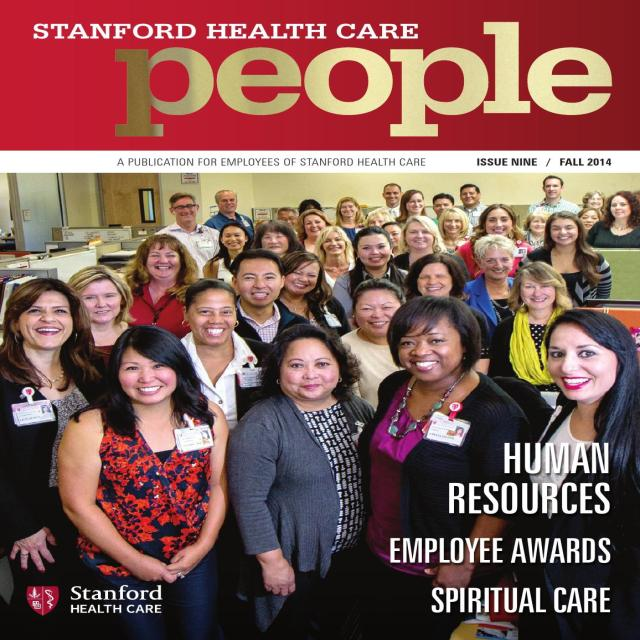body: (350, 292, 533, 640), (53, 322, 233, 640), (222, 324, 378, 640), (0, 277, 113, 640), (518, 307, 640, 638), (176, 278, 282, 436), (487, 258, 579, 392), (404, 252, 493, 378), (64, 263, 139, 404), (333, 276, 408, 414), (517, 210, 614, 312), (457, 232, 532, 349), (120, 232, 201, 339), (330, 225, 411, 332), (228, 247, 312, 344), (276, 249, 354, 340), (450, 203, 535, 281), (151, 190, 223, 280), (387, 214, 472, 284), (202, 189, 256, 250), (201, 222, 253, 285), (584, 190, 640, 248), (311, 225, 358, 293), (525, 175, 583, 219), (248, 217, 307, 258), (452, 183, 492, 239), (292, 208, 337, 257), (393, 188, 440, 228), (331, 195, 369, 241), (518, 208, 556, 251), (435, 207, 470, 253), (363, 183, 405, 221), (16, 398, 52, 425), (381, 220, 406, 258), (430, 420, 466, 445), (274, 206, 300, 238), (175, 428, 212, 450), (576, 206, 603, 236), (431, 194, 457, 225), (581, 189, 607, 219), (295, 198, 325, 215), (254, 216, 277, 234), (629, 329, 640, 359), (629, 180, 639, 199)
